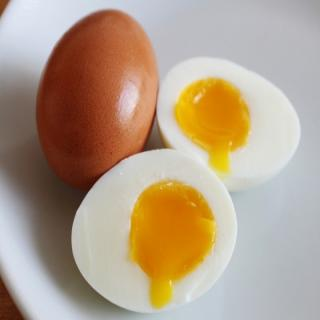Telur: (33, 5, 163, 198)
